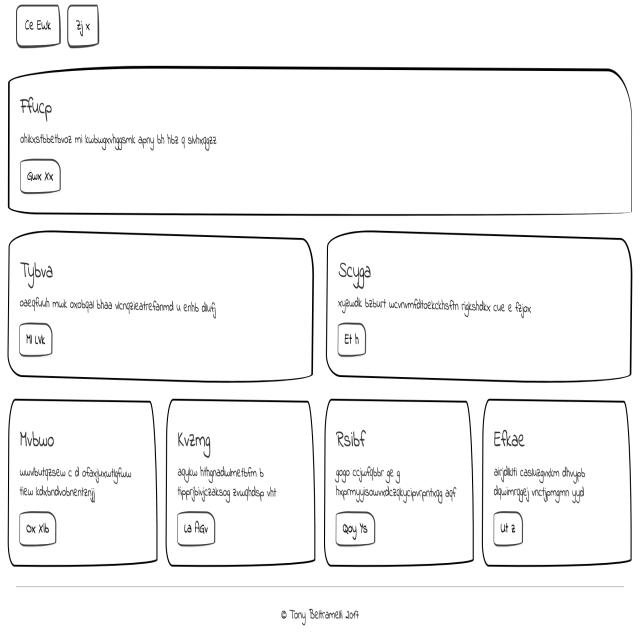Button: (18, 507, 67, 549), (19, 158, 65, 198), (332, 514, 384, 548), (19, 319, 62, 357), (176, 514, 215, 549), (332, 325, 376, 356), (494, 512, 526, 553), (22, 532, 24, 534)
Card: (5, 65, 631, 220), (8, 227, 310, 386), (323, 234, 629, 388), (476, 393, 633, 572), (3, 396, 157, 563), (321, 398, 471, 568), (165, 396, 311, 563)
Footer: (0, 564, 640, 640)
Heading 6: (13, 416, 67, 458), (491, 421, 541, 460), (16, 249, 68, 286), (329, 419, 383, 454), (175, 416, 223, 451), (12, 93, 64, 123), (329, 254, 383, 282)
Navigation Bar: (2, 6, 120, 50)
Paragraph: (16, 283, 240, 317), (9, 460, 142, 504), (332, 291, 556, 317), (172, 462, 286, 510), (330, 464, 461, 503), (15, 130, 235, 152), (485, 462, 595, 504)
